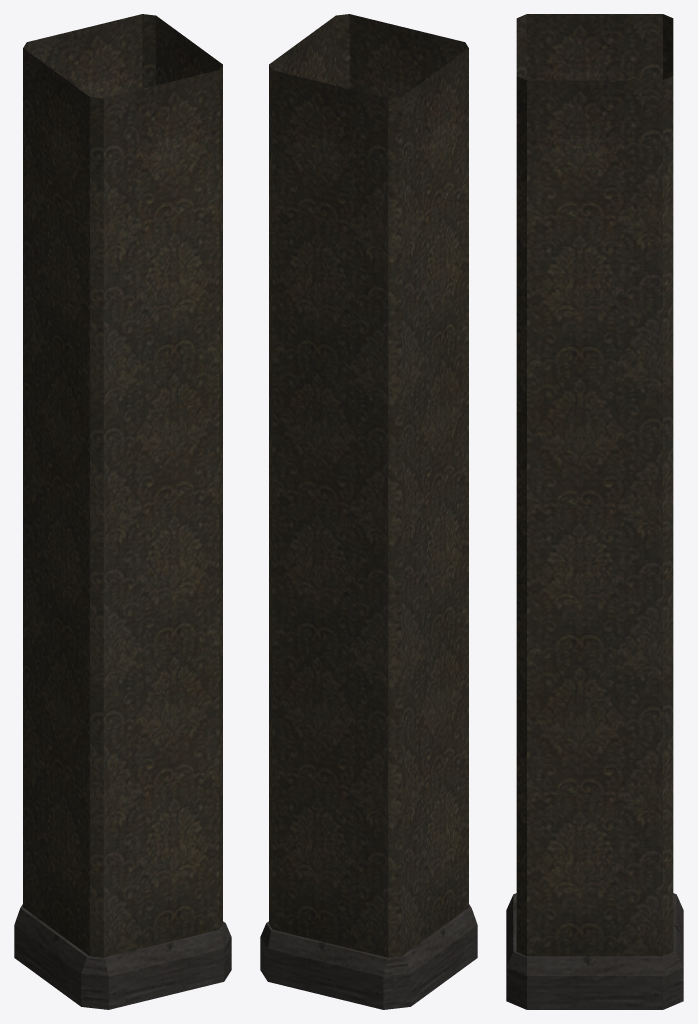
File: pillar_3.obj
The picture shows the model from 3 angles, left to right: view 1: azimuth 30°, elevation 25°; view 2: azimuth 150°, elevation 25°; view 3: azimuth 270°, elevation 25°; orthographic projection.
Visible parts, largest first — view 1: pillar_3; view 2: pillar_3; view 3: pillar_3.
Part boxes in pixels (x1,y1,x2,y2): pillar_3: (14, 14, 231, 1009); pillar_3: (260, 14, 477, 1009); pillar_3: (506, 14, 683, 1009).
Bounding box in the file's own units: 0.52 × 3 × 0.52.
